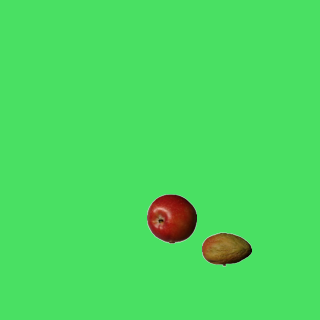Apple Braeburn: (146, 193, 196, 243)
Papaya: (201, 224, 251, 274)
